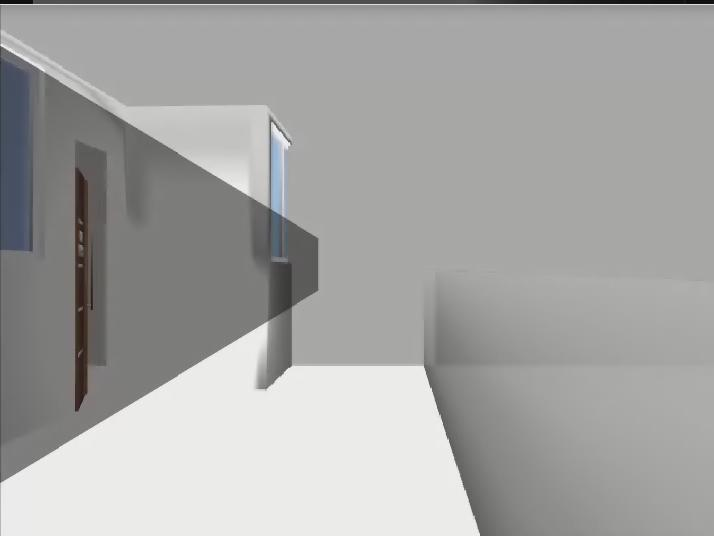door: (76, 168, 93, 412)
